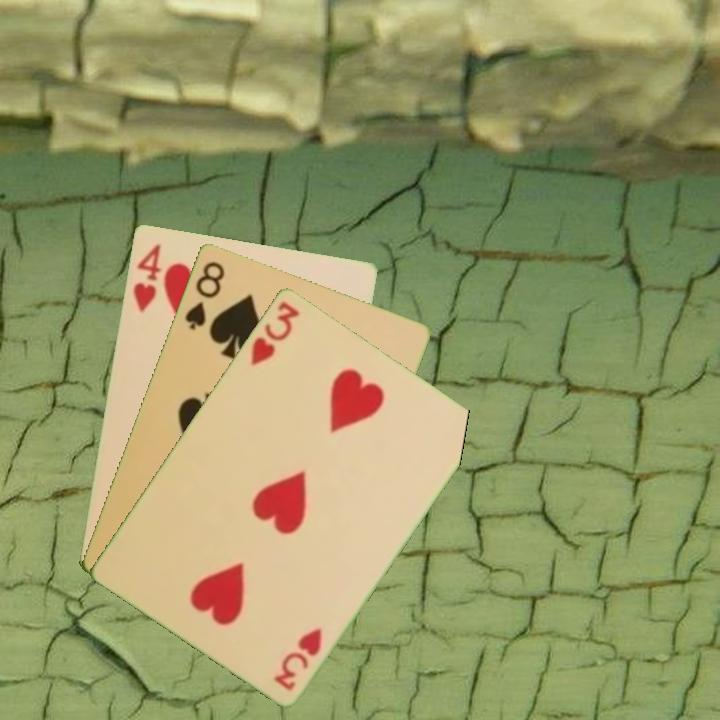3h: (247, 297, 302, 369), (270, 623, 325, 693)
4h: (129, 239, 164, 314)
8s: (181, 257, 228, 333)
